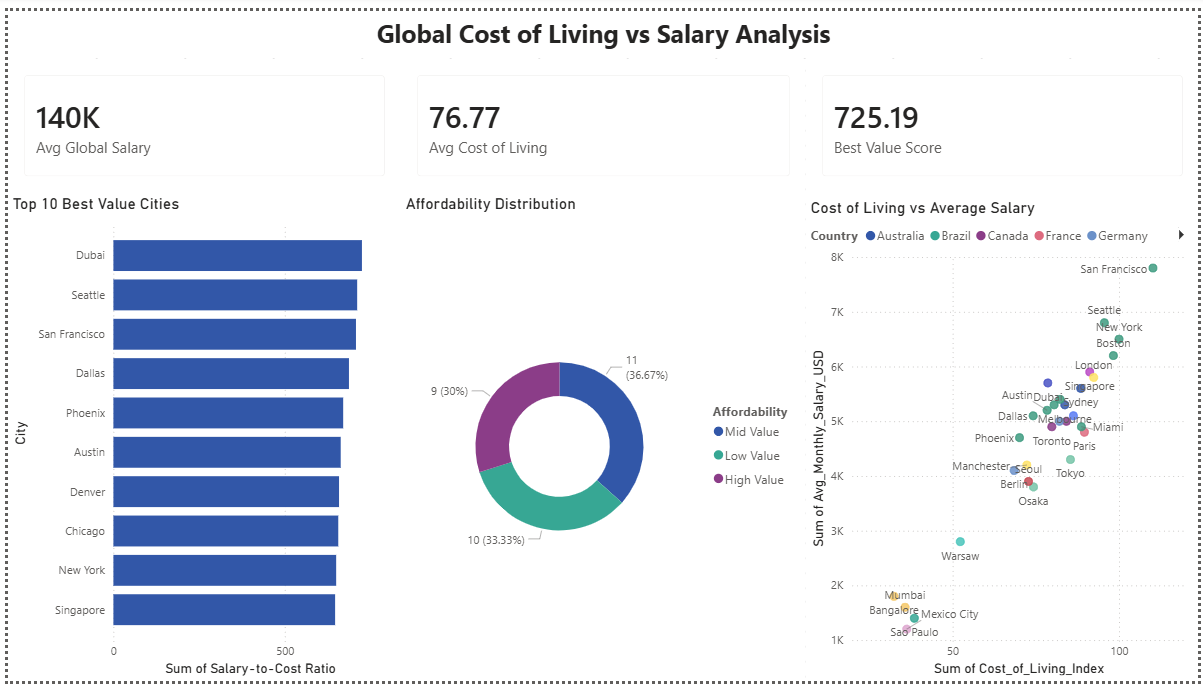

Layout of this report page (visuals, bound fields, positions):
{"tool":"powerbi","page":{"name":"Dashboard","canvas":[1280,720],"ordinal":0},"visuals":[{"type":"barChart","title":"Top 10 Best Value Cities","fields":{"Category":["cost_of_living_vs_salary.City"],"Y":["Sum(cost_of_living_vs_salary.Salary-to-Cost Ratio)"]},"box":[0,196.5,422.8,522.8],"z":0},{"type":"scatterChart","title":"Cost of Living vs Average Salary","fields":{"X":["Sum(cost_of_living_vs_salary.Cost_of_Living_Index)"],"Y":["Sum(cost_of_living_vs_salary.Avg_Monthly_Salary_USD)"],"Category":["cost_of_living_vs_salary.City"],"Series":["cost_of_living_vs_salary.Country"]},"box":[857.9,201.8,422.8,517.5],"z":1000},{"type":"donutChart","title":"Affordability Distribution","fields":{"Category":["cost_of_living_vs_salary.Affordability"],"Y":["CountNonNull(cost_of_living_vs_salary.City)"]},"box":[422.8,196.5,435.1,522.8],"z":2000},{"type":"cardVisual","fields":{"Data":["Avg(cost_of_living_vs_salary.Cost_of_Living_Index)"]},"box":[422.8,52,435.1,143.9],"z":3000},{"type":"cardVisual","fields":{"Data":["Max(cost_of_living_vs_salary.Salary-to-Cost Ratio)"]},"box":[857.9,52,422.8,143.9],"z":4000},{"type":"cardVisual","fields":{"Data":["Sum(cost_of_living_vs_salary.Avg_Monthly_Salary_USD)"]},"box":[0,52,422.8,143.9],"z":4001},{"type":"textbox","box":[0,0,1280.7,50.9],"z":4002}]}

Visuals, with their boxes in screenshot pixels (x1, y1, x2, y2), scaled from the page's 1280x720 canvas onto the 1203x687 screenshot:
"Top 10 Best Value Cities" barChart: box=[0, 187, 397, 686]
"Cost of Living vs Average Salary" scatterChart: box=[806, 193, 1202, 686]
"Affordability Distribution" donutChart: box=[397, 187, 806, 686]
cardVisual - Avg(cost_of_living_vs_salary.Cost_of_Living_Index): box=[397, 50, 806, 187]
cardVisual - Max(cost_of_living_vs_salary.Salary-to-Cost Ratio): box=[806, 50, 1202, 187]
cardVisual - Sum(cost_of_living_vs_salary.Avg_Monthly_Salary_USD): box=[0, 50, 397, 187]
textbox: box=[0, 0, 1202, 49]
